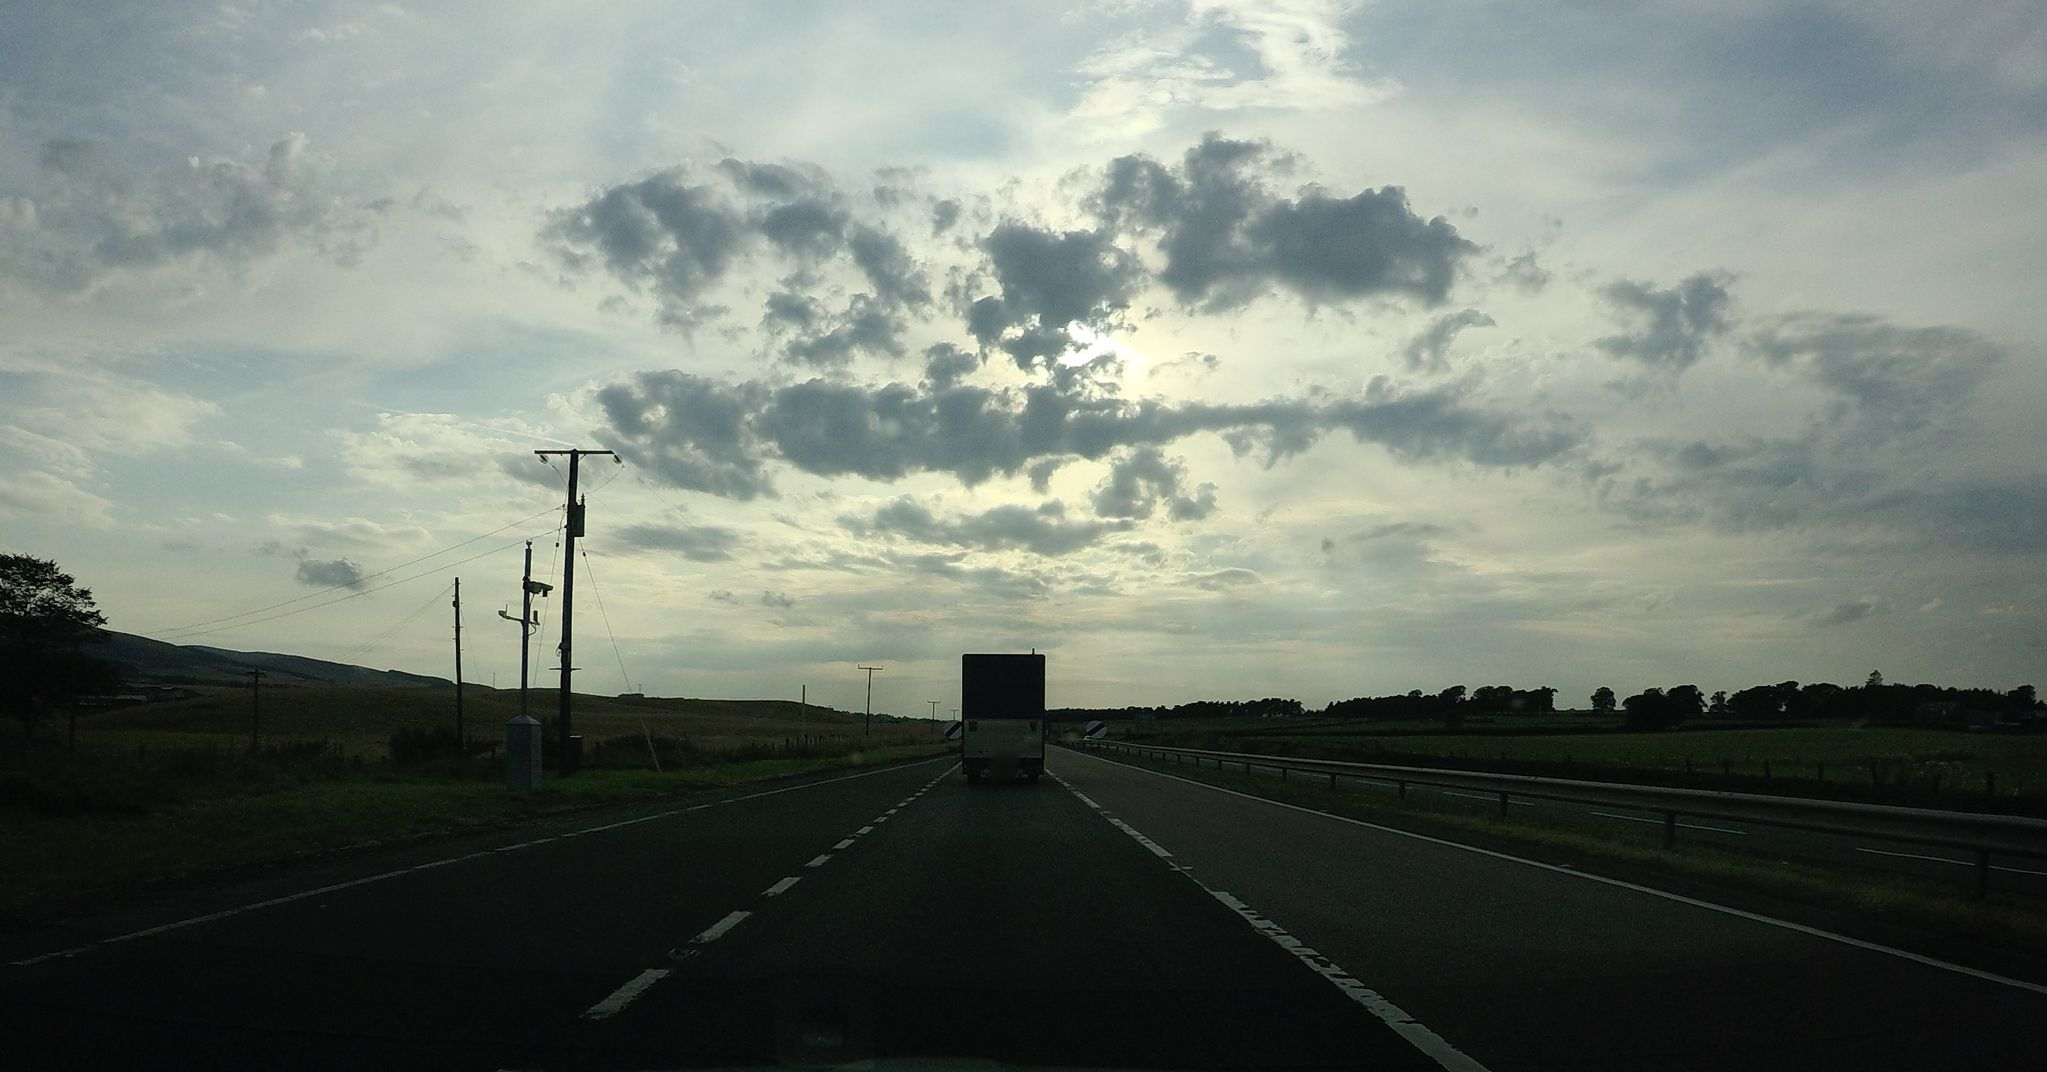truck: (959, 650, 1047, 782)
